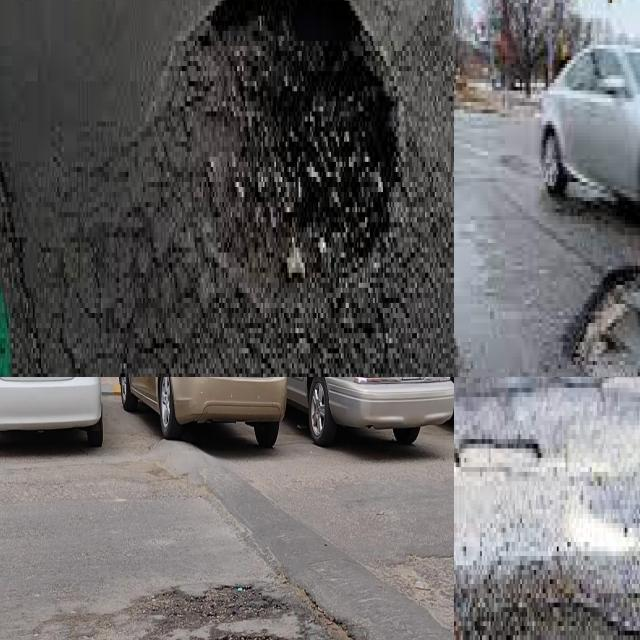Pothole: (186, 0, 399, 291), (561, 263, 640, 377), (148, 577, 284, 635), (454, 439, 539, 478)
